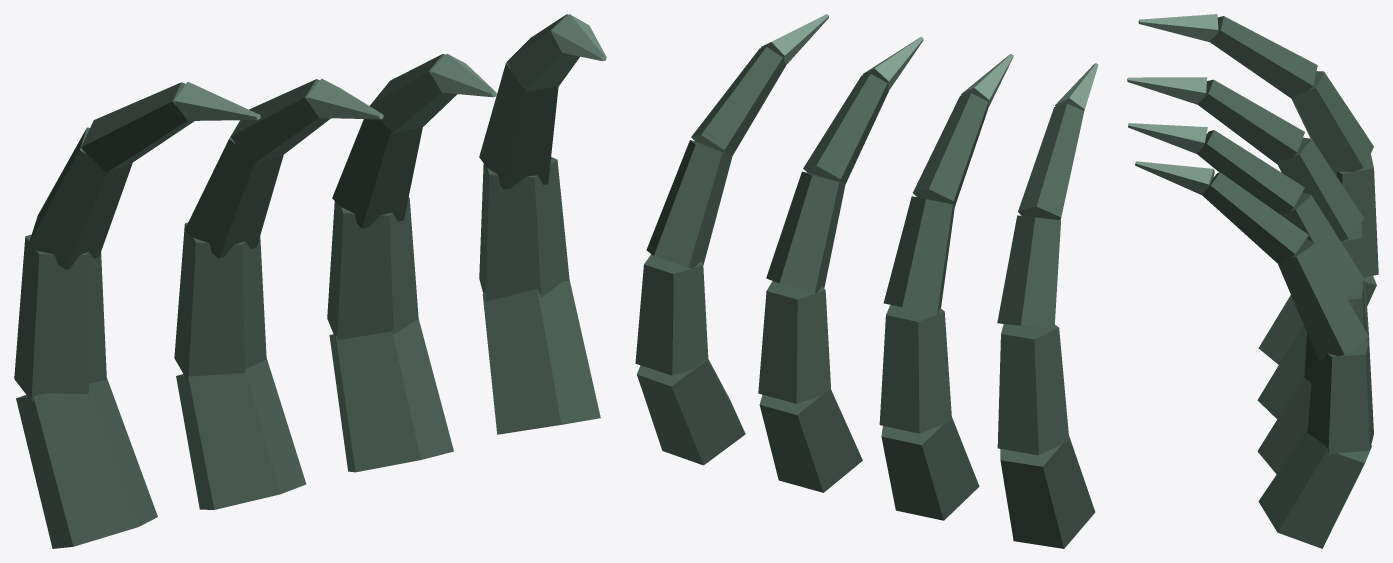
The model's file is crest_tidegrip.glb.
3 views of the same model, side by side, from view 1: azimuth 30°, elevation 25°; view 2: azimuth 150°, elevation 25°; view 3: azimuth 270°, elevation 25° (orthographic). The views are drawn at different scales.
Parts seen in each view (by area): view 1: Crest_tidegrip; view 2: Crest_tidegrip; view 3: Crest_tidegrip.
Boxes of the visible parts, x1=… form: Crest_tidegrip: x1=14, y1=14, x2=606, y2=548; Crest_tidegrip: x1=635, y1=14, x2=1098, y2=548; Crest_tidegrip: x1=1127, y1=14, x2=1378, y2=548.
Bounding box in the file's own units: 0.5867 × 0.5287 × 0.3215.
